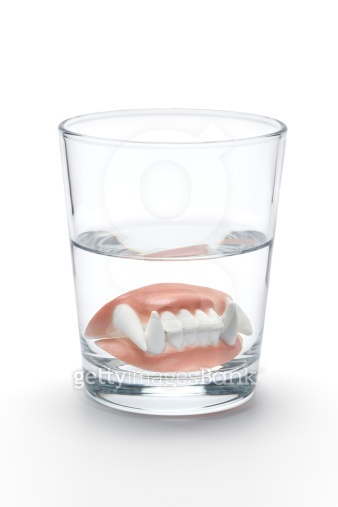glass of water: (57, 107, 288, 424)
